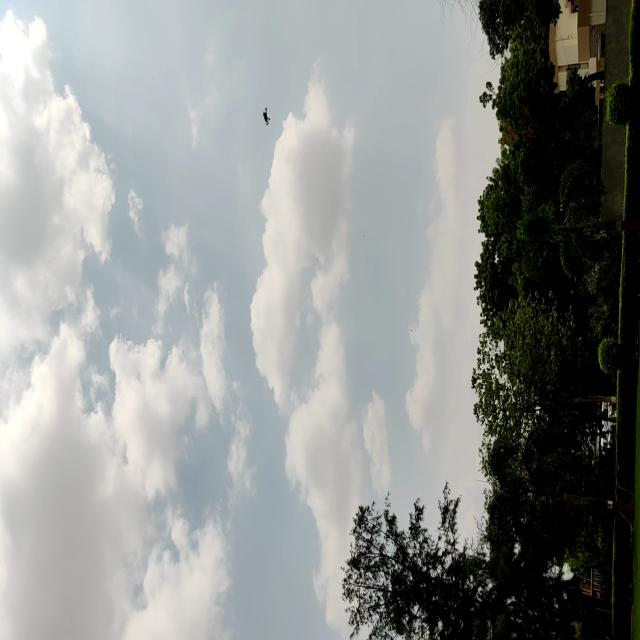drone: (260, 105, 272, 135)
